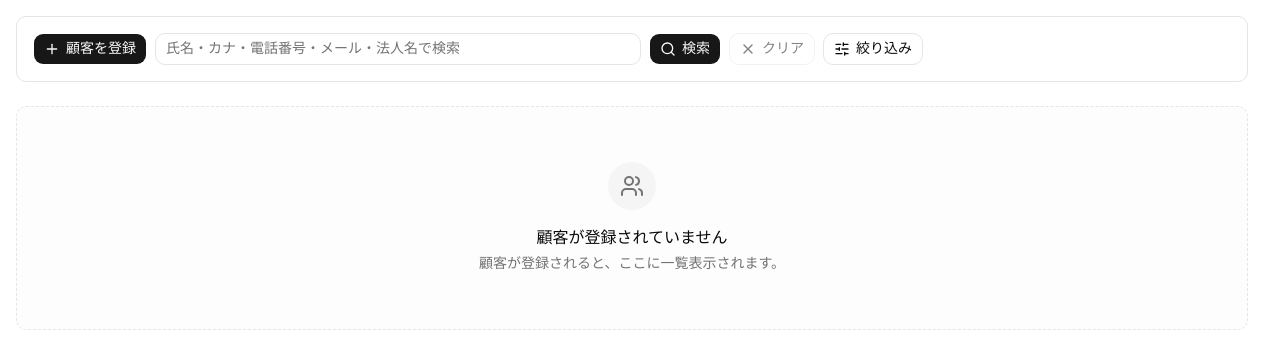
CustomerListPageClient › キーワードで顧客を検索できる
Expected: the text "顧客が登録されていません" is shown, [536, 226, 728, 250]
Type "山田" into the search field named "顧客検索キーワード". click: {"x": 398, "y": 49}
box: [155, 33, 641, 65]
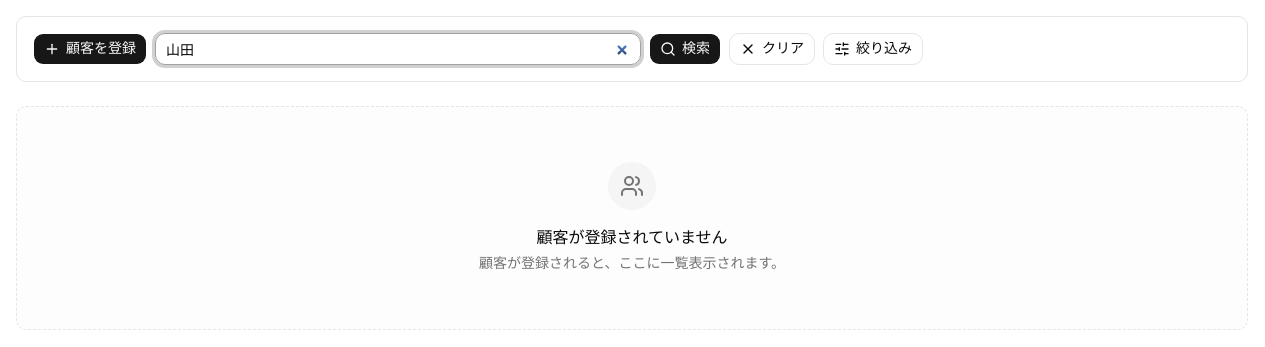
Click the button "検索". click: {"x": 685, "y": 49}
box: [649, 33, 721, 65]
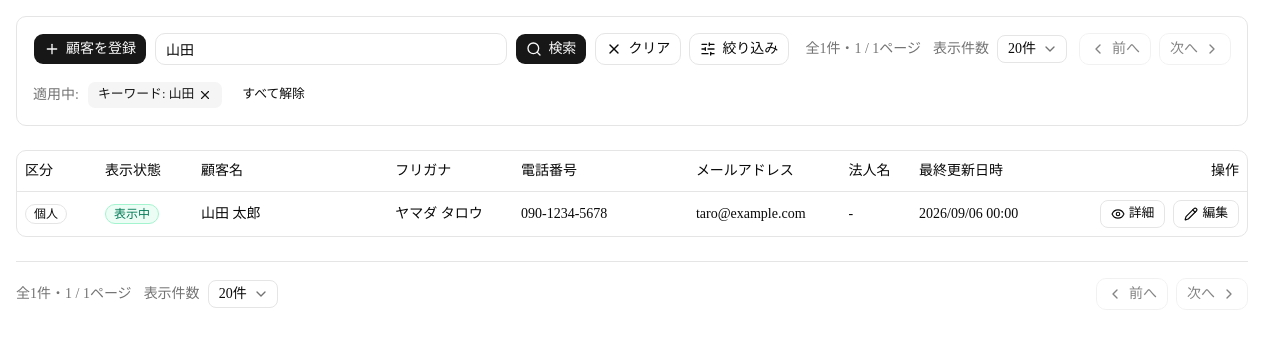
Result: the text "山田 太郎" is shown at [193, 191, 387, 236]
